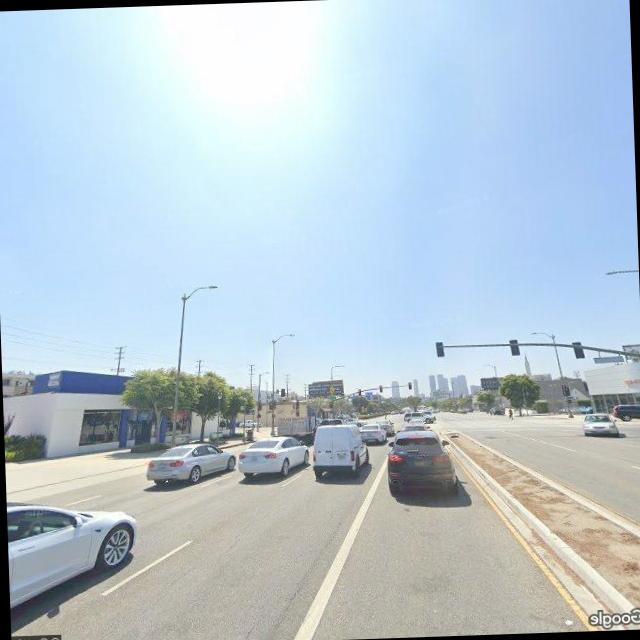pothole: (240, 617, 263, 640)
